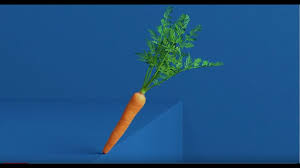carrot: (98, 89, 147, 163)
